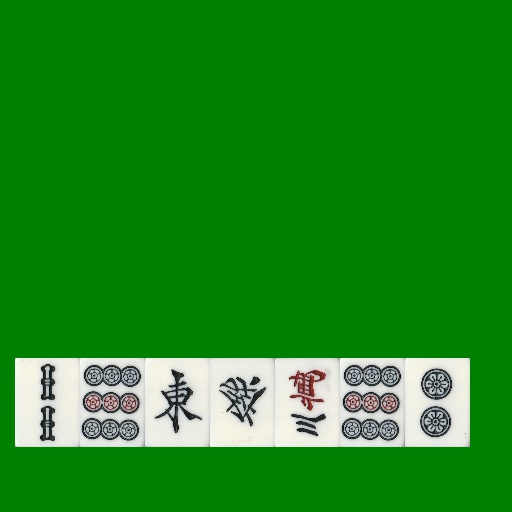2p: (405, 358, 470, 447)
2s: (15, 358, 80, 447)
3m: (275, 358, 340, 447)
9p: (80, 358, 145, 447), (340, 358, 405, 447)
east: (145, 358, 210, 447)
hatsu: (210, 358, 275, 447)
